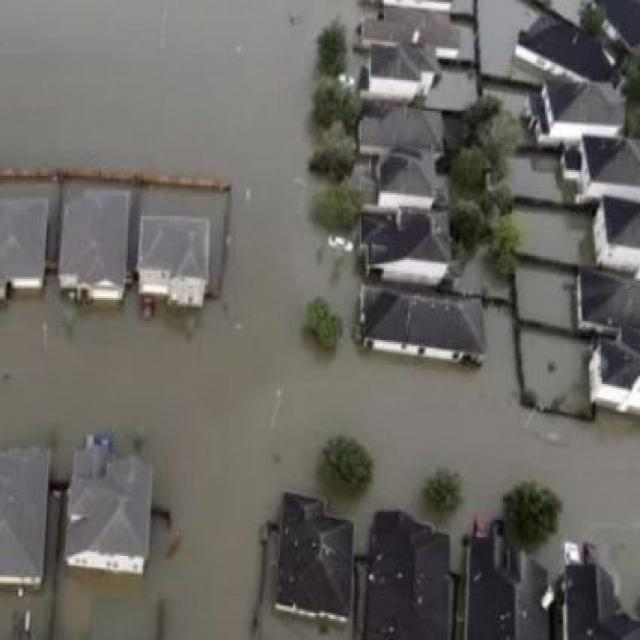flood: (0, 0, 640, 640), (482, 71, 597, 420), (0, 594, 159, 640), (480, 0, 540, 76)
house: (64, 434, 154, 584), (359, 507, 459, 640), (272, 490, 357, 628), (363, 2, 469, 102), (360, 282, 486, 366), (509, 8, 630, 86), (554, 537, 640, 640), (64, 187, 130, 306), (1, 446, 54, 592), (462, 522, 525, 640), (141, 212, 209, 311), (1, 180, 52, 300), (528, 78, 624, 141), (568, 132, 640, 198), (362, 151, 441, 210), (574, 268, 640, 332), (588, 338, 640, 410), (592, 198, 640, 268)
